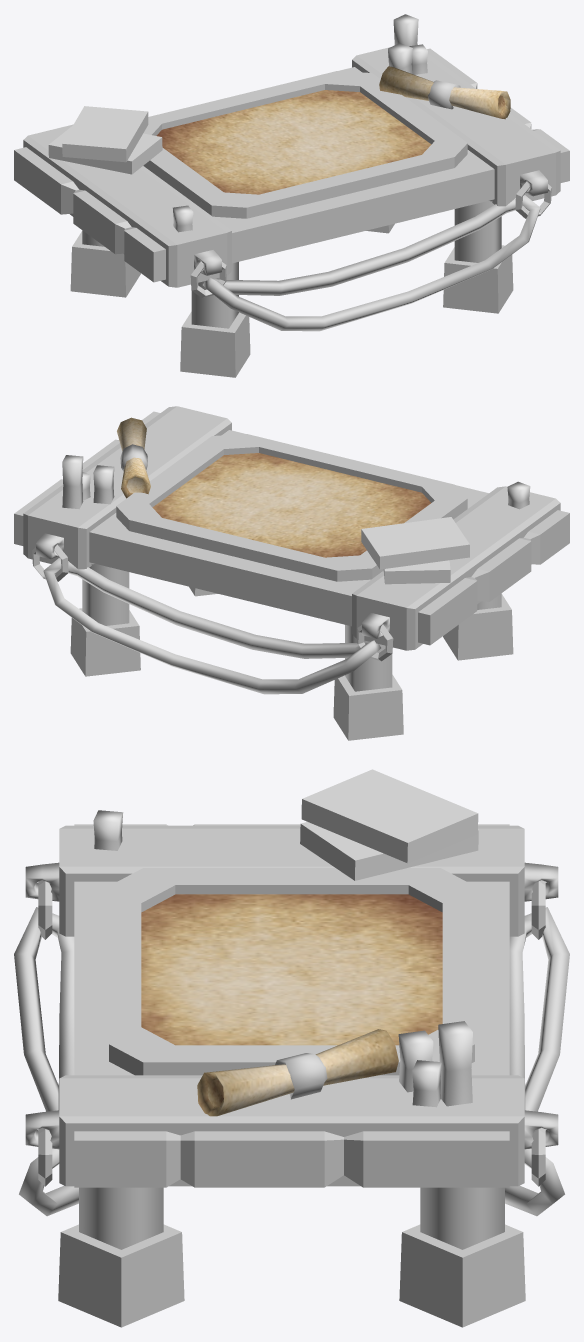
File: WarTable_Mesh.fbx
The picture shows the model from 3 angles, top to bottom: view 1: azimuth 30°, elevation 25°; view 2: azimuth 150°, elevation 25°; view 3: azimuth 270°, elevation 25°; orthographic projection. The views are drawn at different scales.
Parts seen in each view (by area): view 1: WarTable; view 2: WarTable; view 3: WarTable.
Part boxes in pixels (<box>): WarTable: <box>14,14,569,377</box>; WarTable: <box>14,406,569,740</box>; WarTable: <box>14,769,569,1327</box>.
Bounding box in the file's own units: 250 × 110 × 186.
